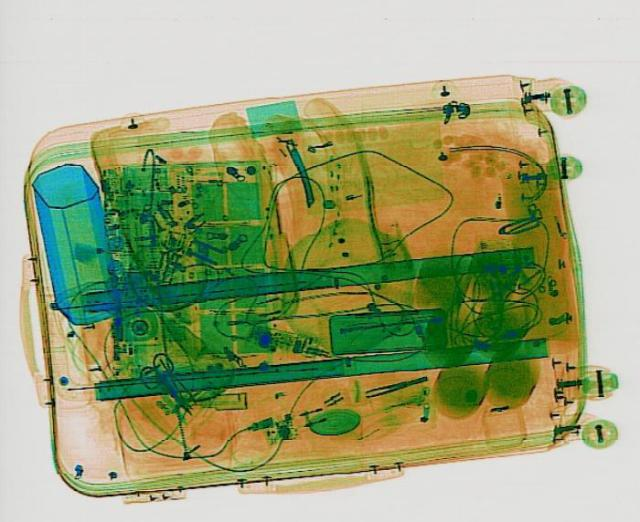Scissors: (130, 349, 208, 418)
